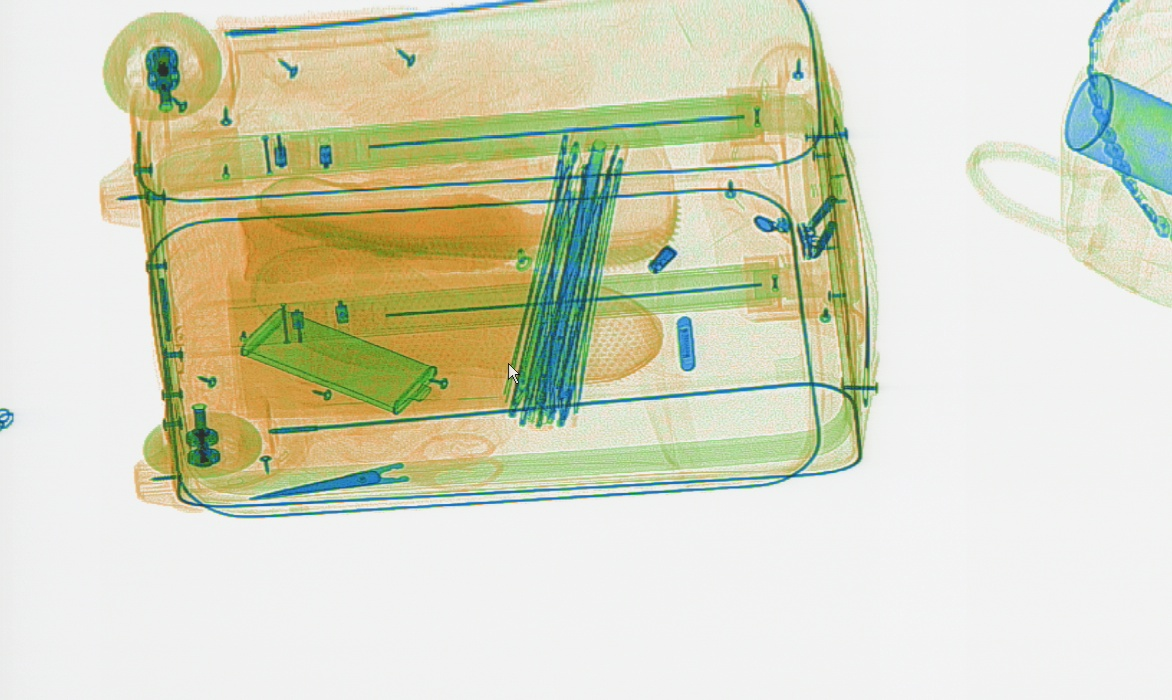scissors: (244, 430, 506, 505)
zippooil: (237, 303, 441, 416)
